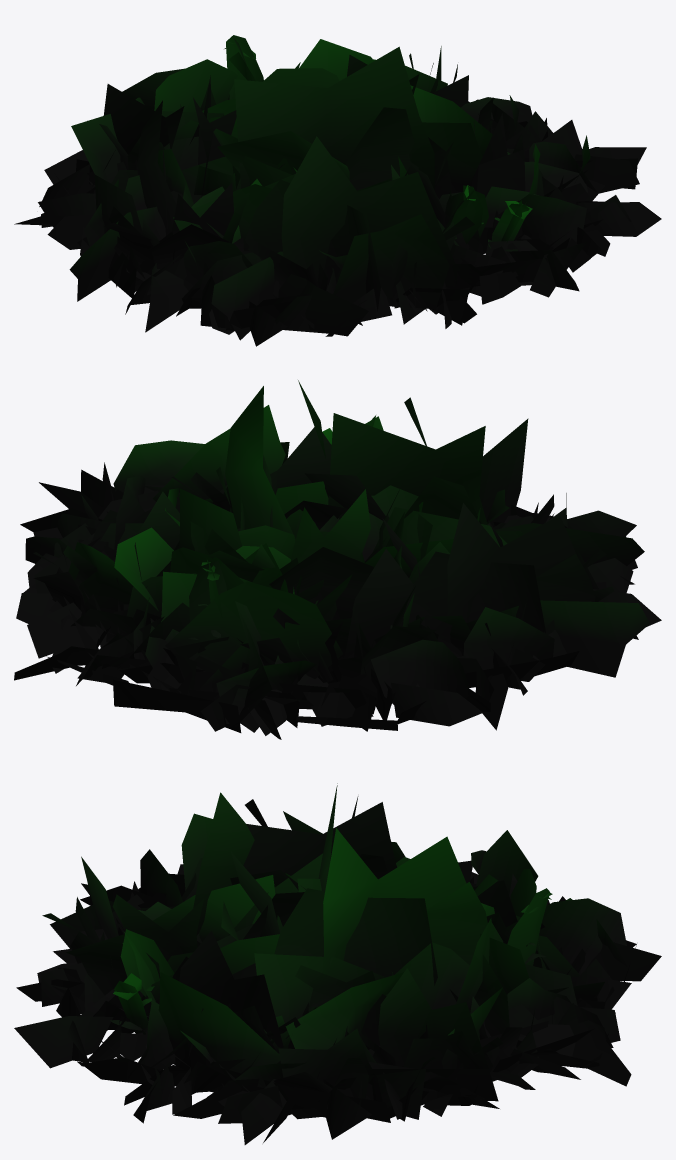
Rendered from Grass Mixed_M.fbx.
3 renders of one model, top to bottom at view 1: azimuth 30°, elevation 25°; view 2: azimuth 150°, elevation 25°; view 3: azimuth 270°, elevation 25°, orthographic. The views are drawn at different scales.
Parts seen in each view (by area): view 1: Grass MixedM_G_LOD0, Grass MixedM_F_LOD0; view 2: Grass MixedM_G_LOD0, Grass MixedM_F_LOD0; view 3: Grass MixedM_G_LOD0, Grass MixedM_F_LOD0.
Boxes of the visible parts, x1,y1,x2,y2 form: Grass MixedM_G_LOD0: (14, 39, 661, 346); Grass MixedM_F_LOD0: (87, 35, 532, 312); Grass MixedM_G_LOD0: (14, 405, 661, 739); Grass MixedM_F_LOD0: (33, 380, 606, 714); Grass MixedM_G_LOD0: (14, 811, 661, 1144); Grass MixedM_F_LOD0: (42, 783, 552, 1119).
Size of what is drawn, in the model's own units: 2.99 by 1.09 by 2.75.
